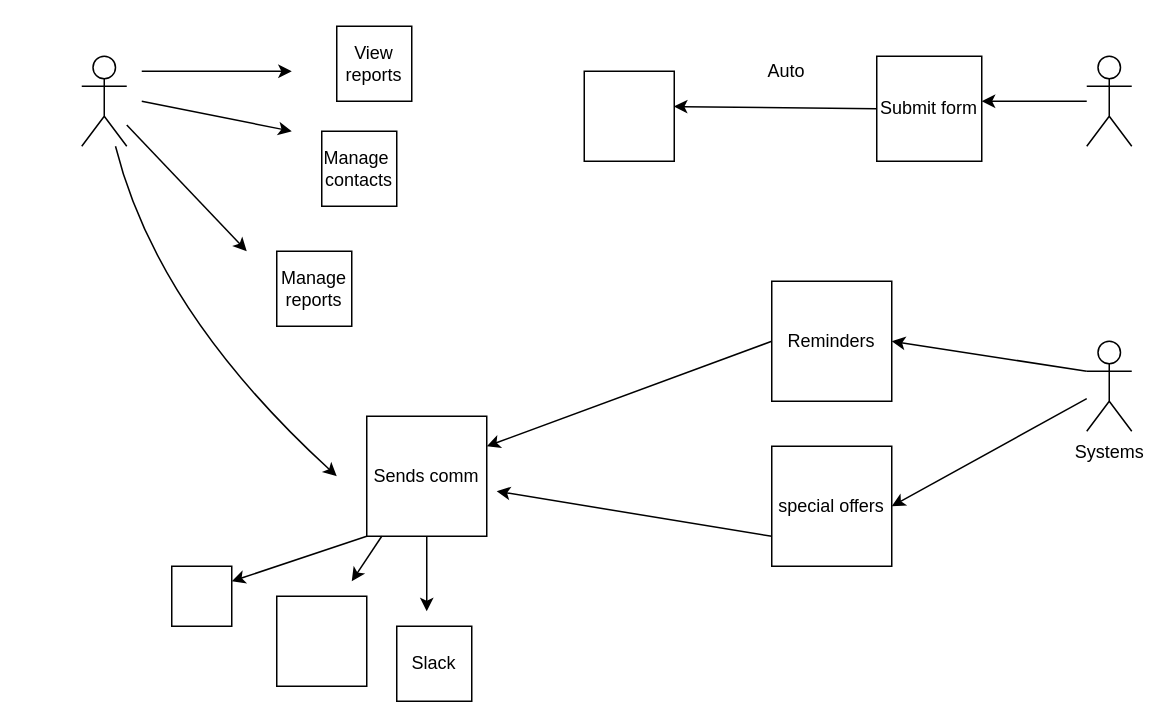
Some shapes in this 1175 by 728 pixel diagram are drawn without their labels. The centre of each missing label's shape, as x and y in pixels:
"Customer" belongs at (1108,100).
"email" belongs at (201,595).
"Instagram DM" belongs at (321,640).
"Marketing specialist" belongs at (103,100).
"Notify marketing specialist" belongs at (628,115).
